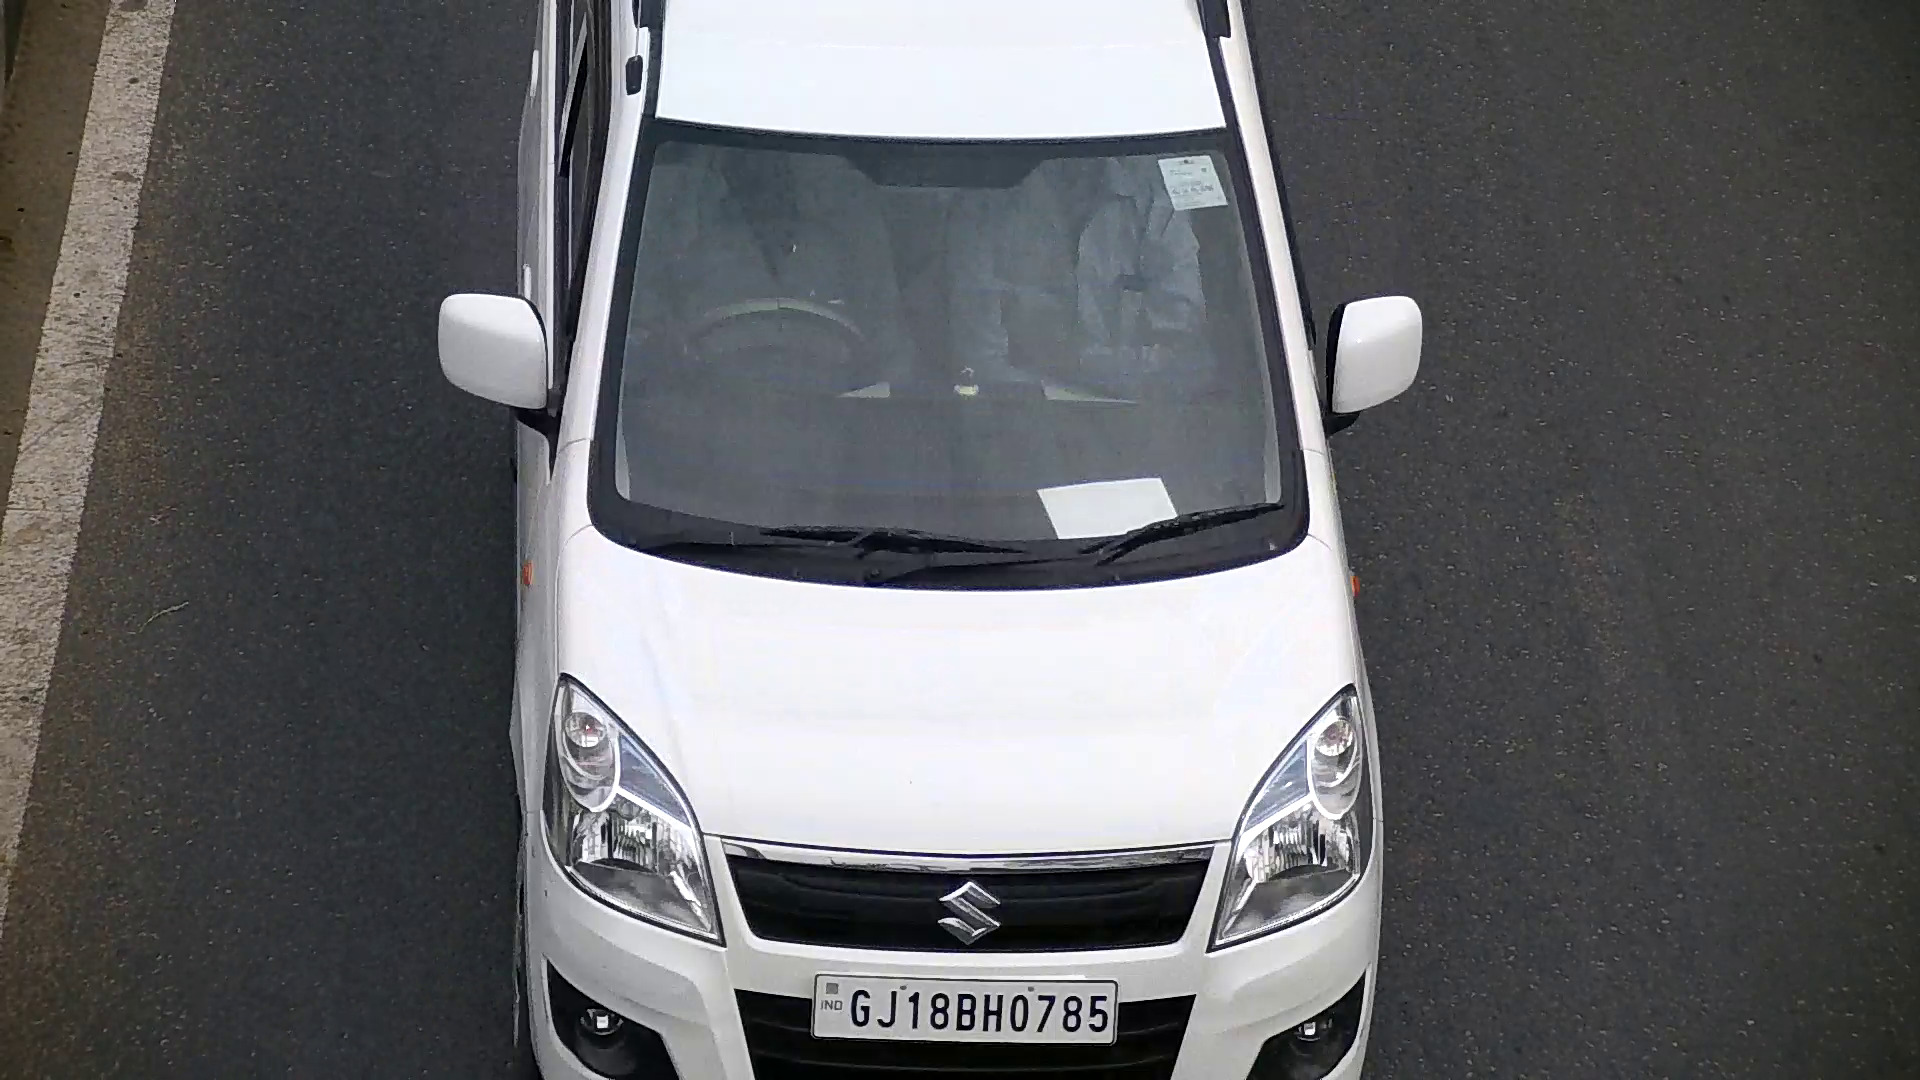numberplate: (808, 972, 1114, 1048)
